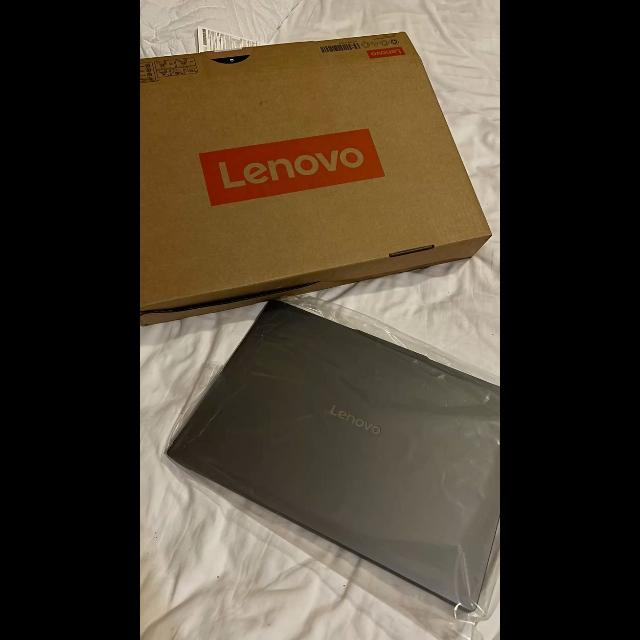laptop: (168, 302, 500, 611)
